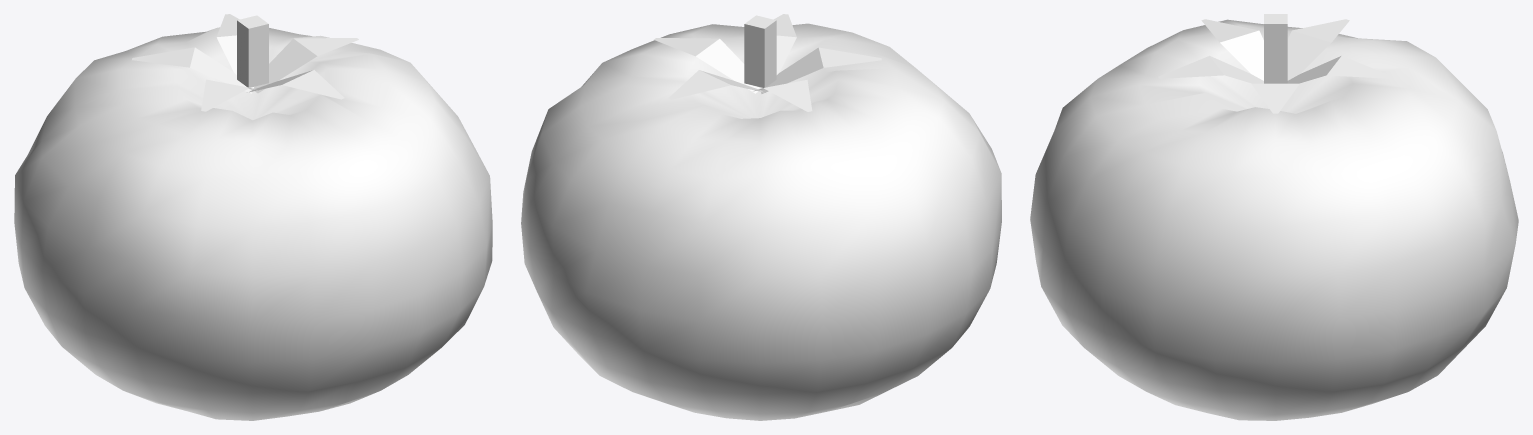
Rendered from tomato.glb.
3 renders of one model, left to right at view 1: azimuth 30°, elevation 25°; view 2: azimuth 150°, elevation 25°; view 3: azimuth 270°, elevation 25°, orthographic.
Visible parts, largest first — view 1: Tomato; view 2: Tomato; view 3: Tomato.
Part boxes in pixels (x1,y1,x2,y2): Tomato: (14, 14, 492, 420); Tomato: (521, 14, 1001, 420); Tomato: (1030, 14, 1518, 420).
Bounding box in the file's own units: 0.1048 × 0.0851 × 0.1034.
1 material, 1 textured.
